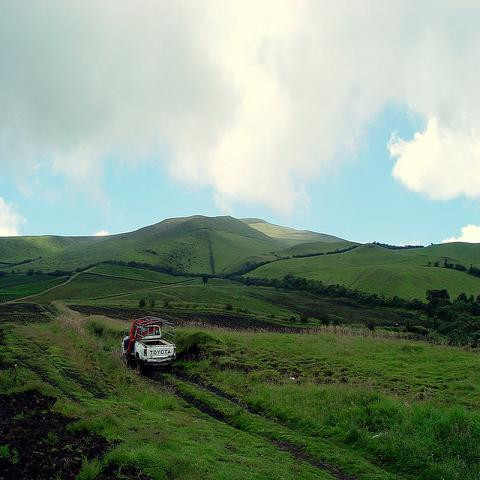truck: (122, 312, 176, 376)
